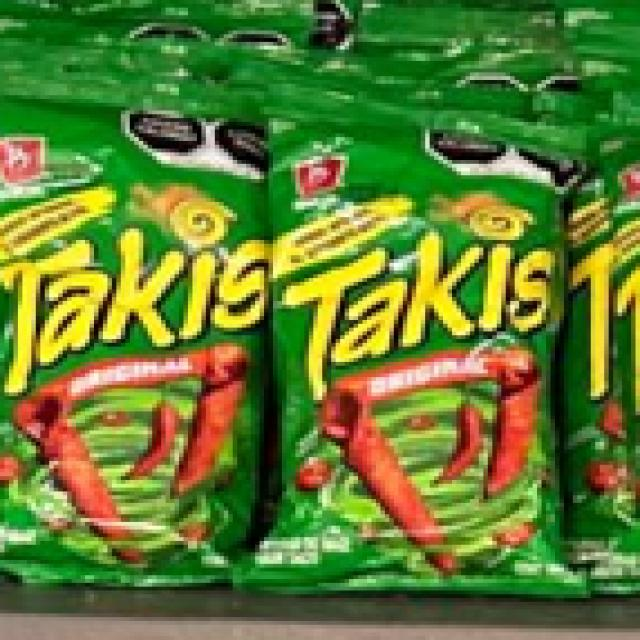takisOriginal: (273, 110, 559, 603), (2, 91, 264, 582)
